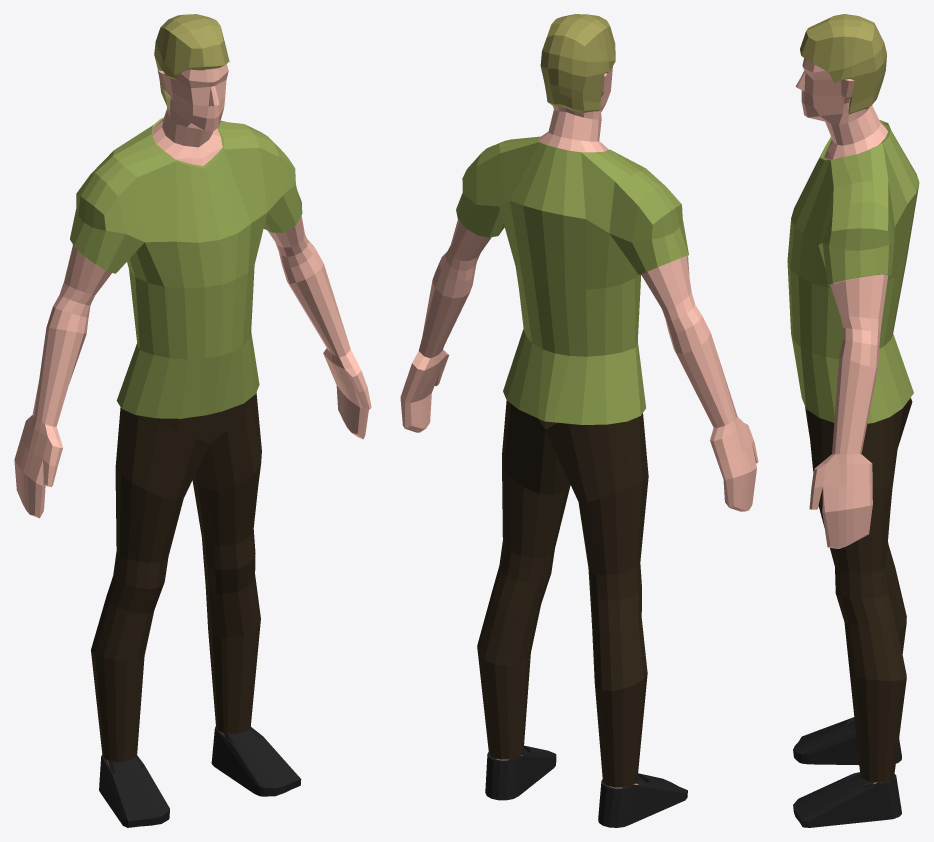
Rendered from man_character_3.fbx.
3 views of the same model, side by side, from view 1: azimuth 30°, elevation 25°; view 2: azimuth 150°, elevation 25°; view 3: azimuth 270°, elevation 25° (orthographic).
Parts seen in each view (by area): view 1: Human full; view 2: Human full; view 3: Human full.
Boxes of the visible parts, x1,y1,x2,y2 form: Human full: (14,14,371,827); Human full: (400,14,758,827); Human full: (787,14,919,827).
Size of the model in its own units: 91.39 by 199 by 31.13.
